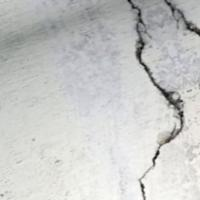crack: (110, 0, 199, 199)
